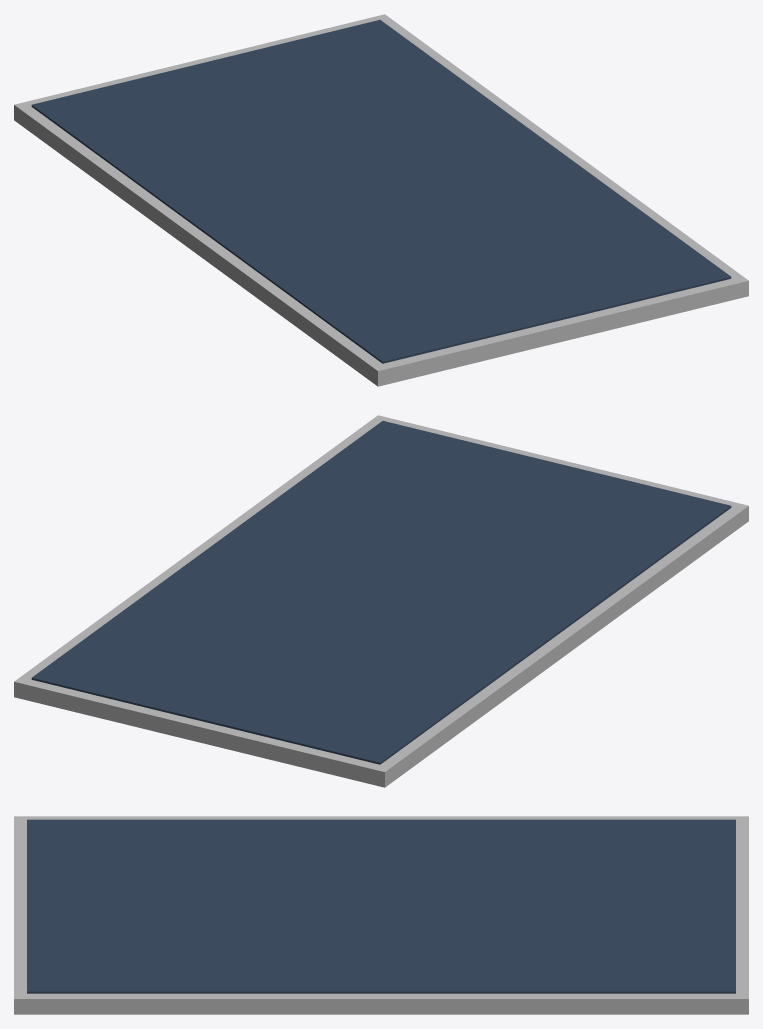
File: solar_panel.glb
The picture shows the model from 3 angles, top to bottom: view 1: azimuth 30°, elevation 25°; view 2: azimuth 150°, elevation 25°; view 3: azimuth 270°, elevation 25°; orthographic projection.
Visible parts, largest first — view 1: world; view 2: world; view 3: world.
Boxes of the visible parts, left/top/right/bottom form: world: left=14, top=14, right=748, bottom=386; world: left=14, top=415, right=748, bottom=787; world: left=14, top=816, right=748, bottom=1014.
Size of the model in its own units: 1 by 0.045 by 1.7.
